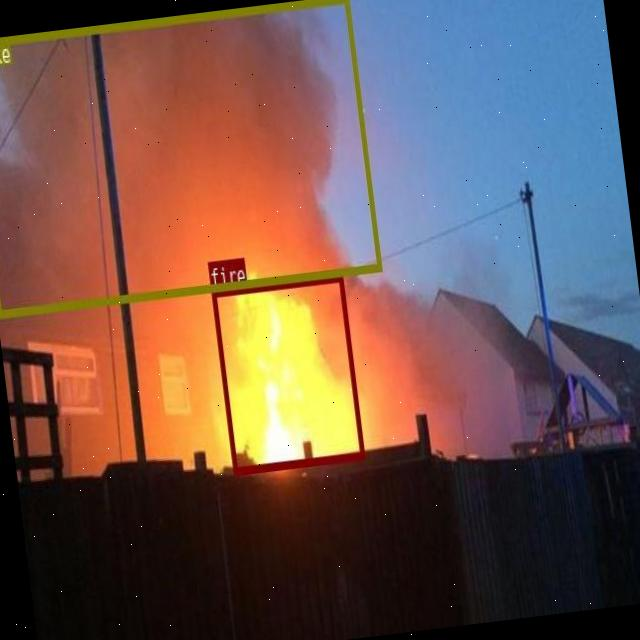fire: (210, 272, 363, 474)
smoke: (0, 0, 380, 317)
